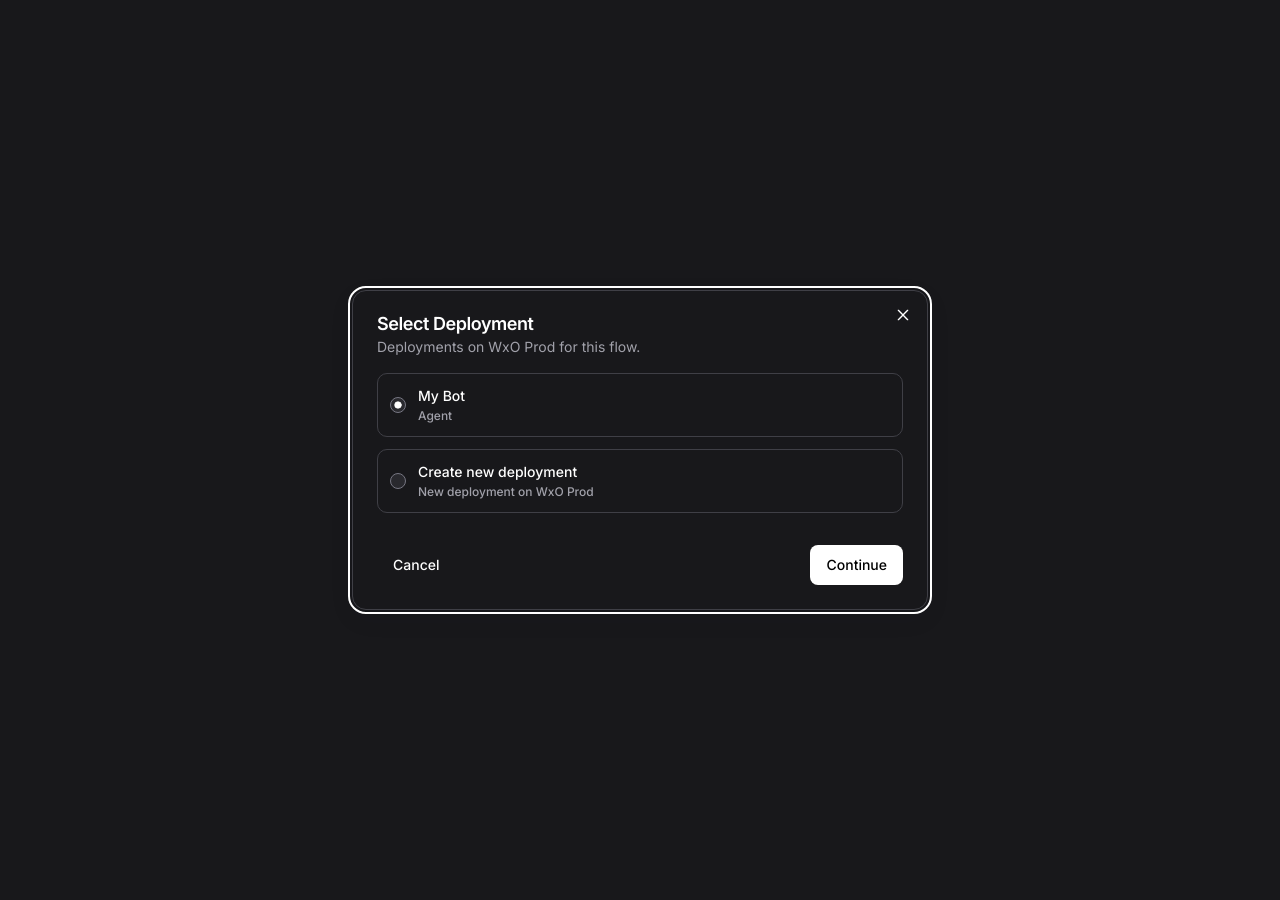
Test: DeployChoiceDialog — deployments phase › auto-selects the single existing attachment
Click the button "Continue".
click(857, 565)  # box [810,545,903,585]
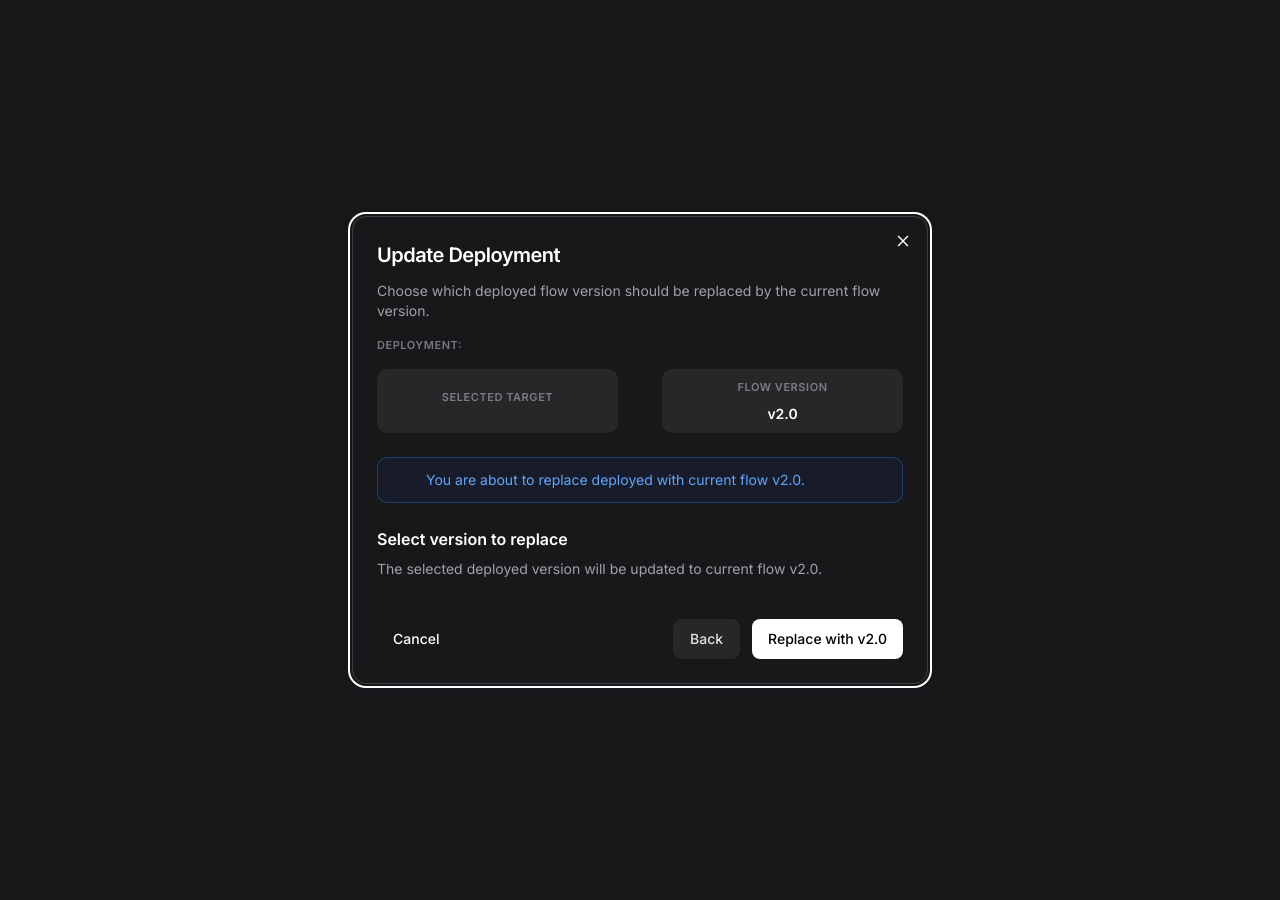
Now the heading "Update Deployment" is shown, box [377,243,560,267]
